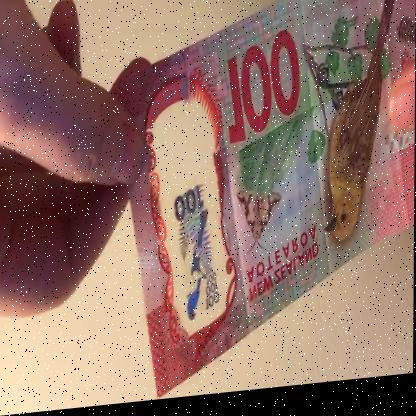100B: (172, 139, 226, 329)
